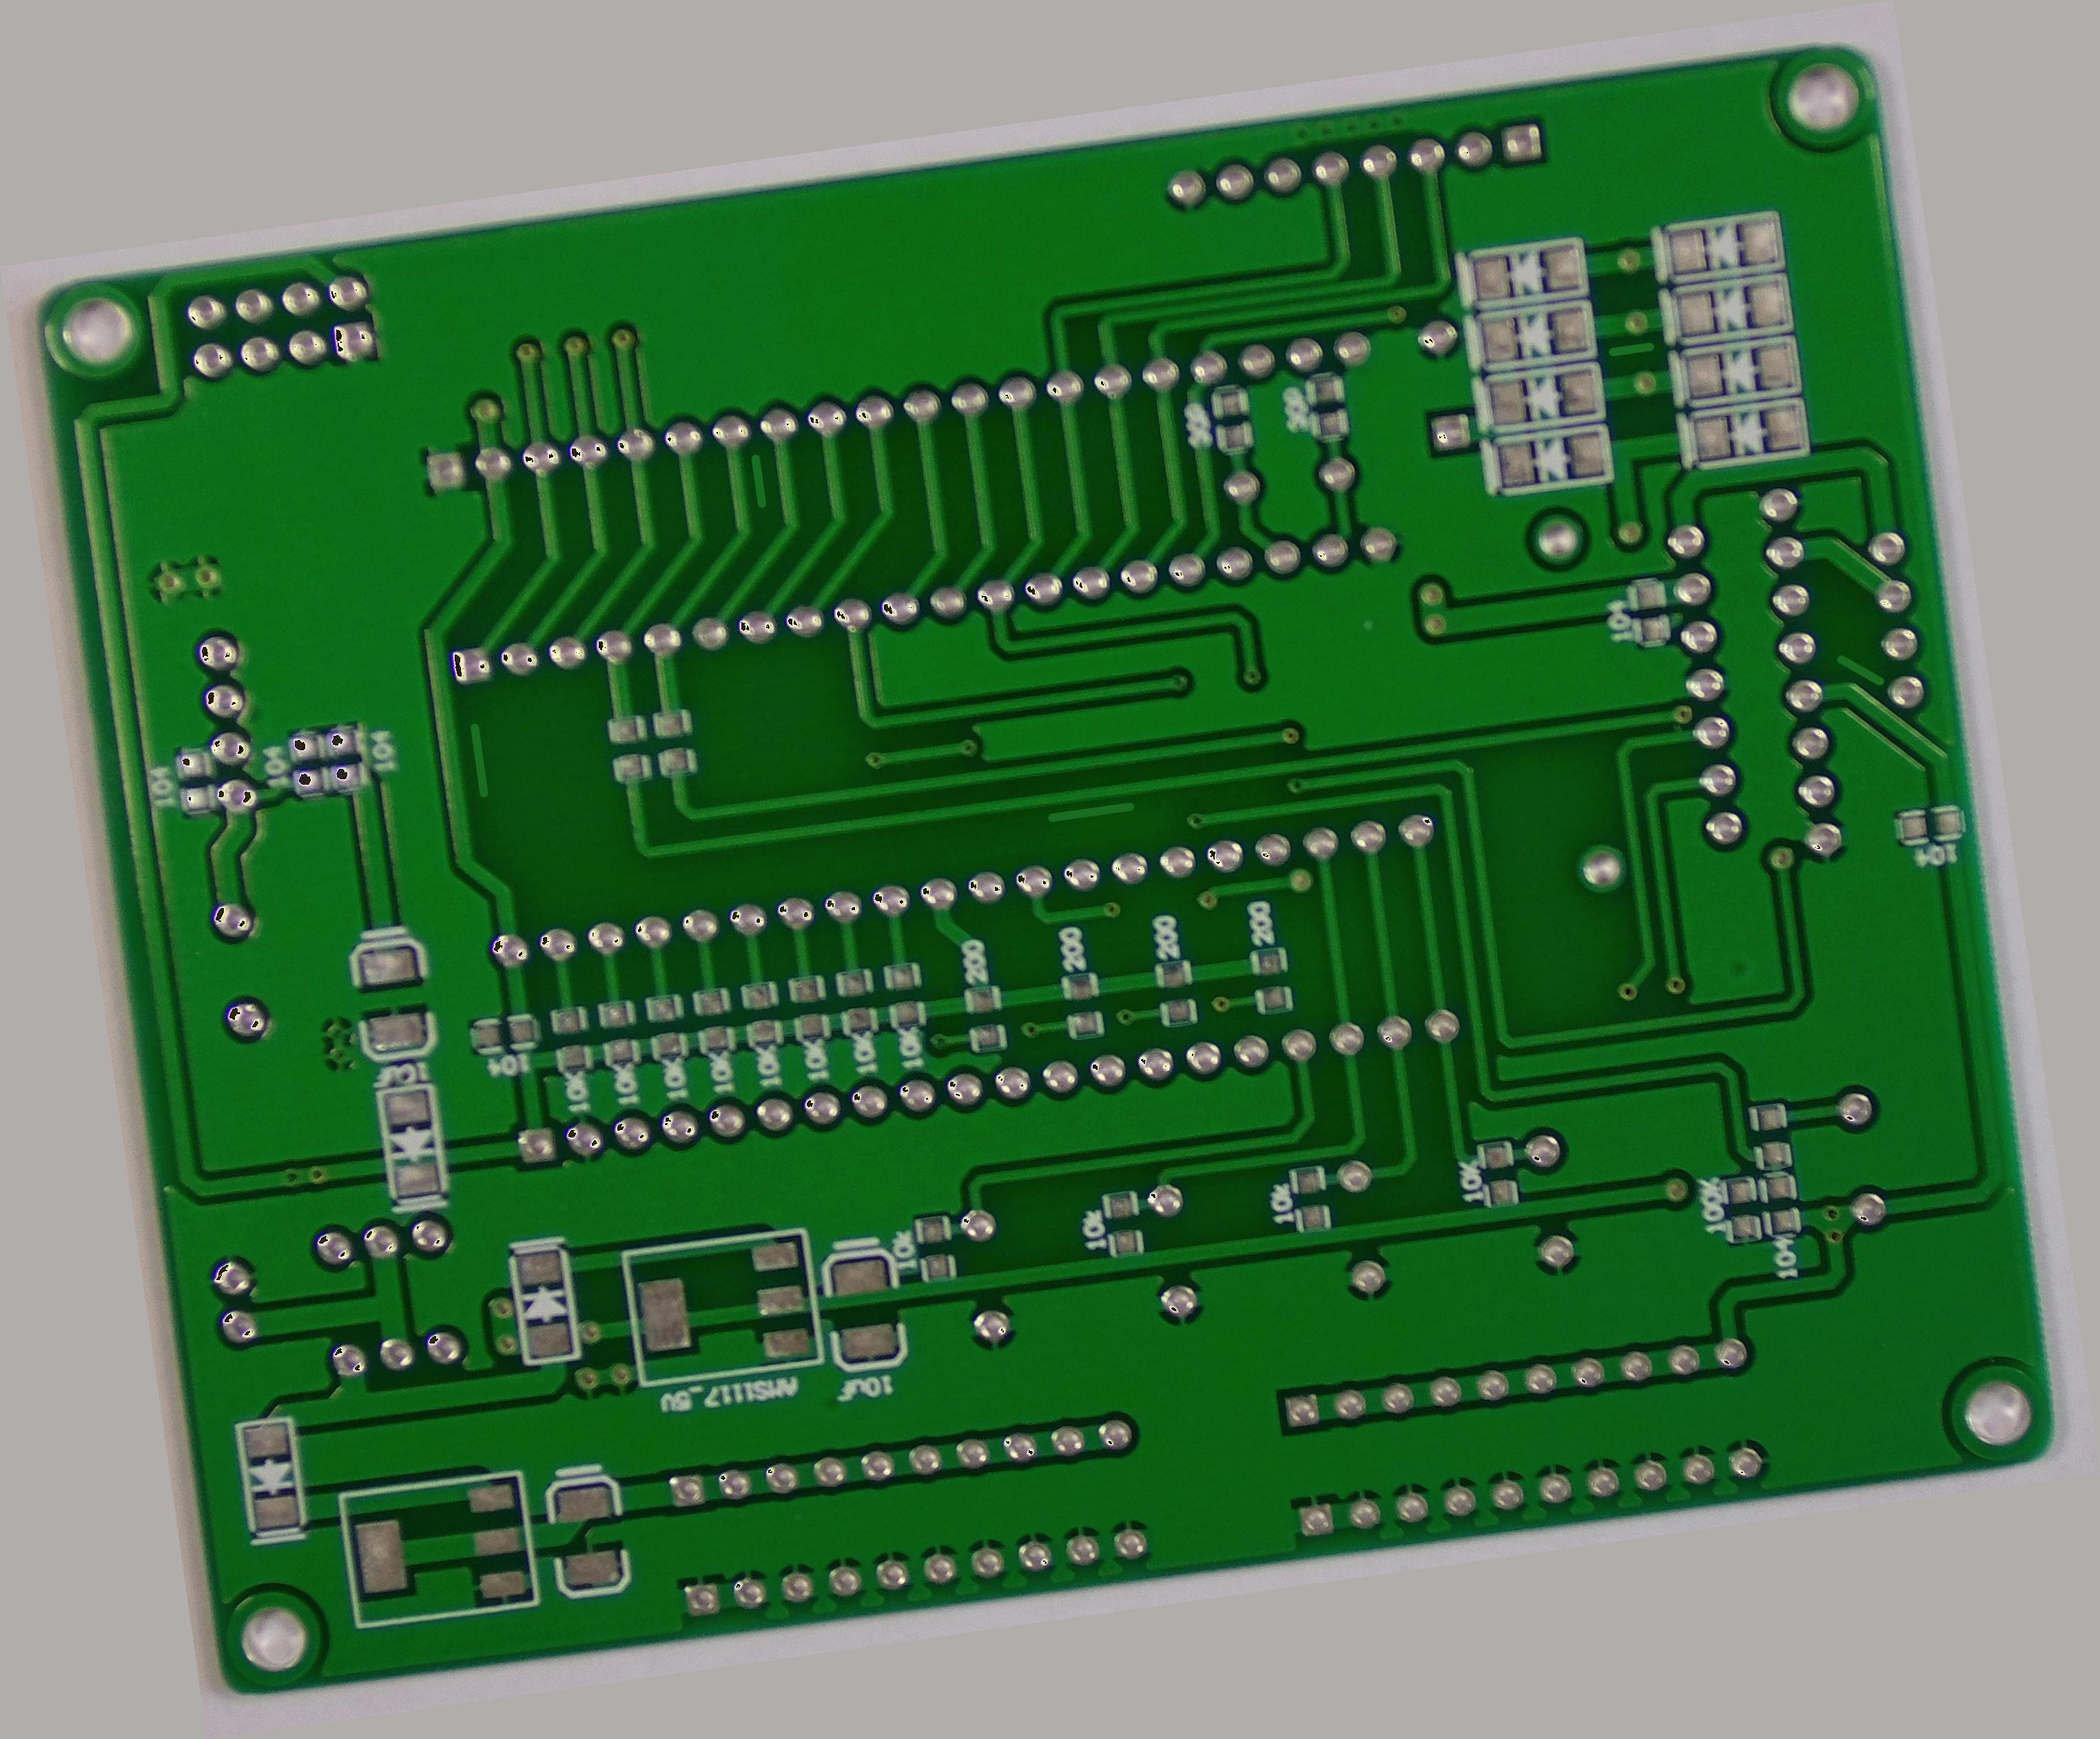spurious_copper: (1036, 785, 1142, 835), (452, 712, 506, 808), (1823, 640, 1887, 699), (734, 445, 780, 515), (1596, 326, 1669, 368)
